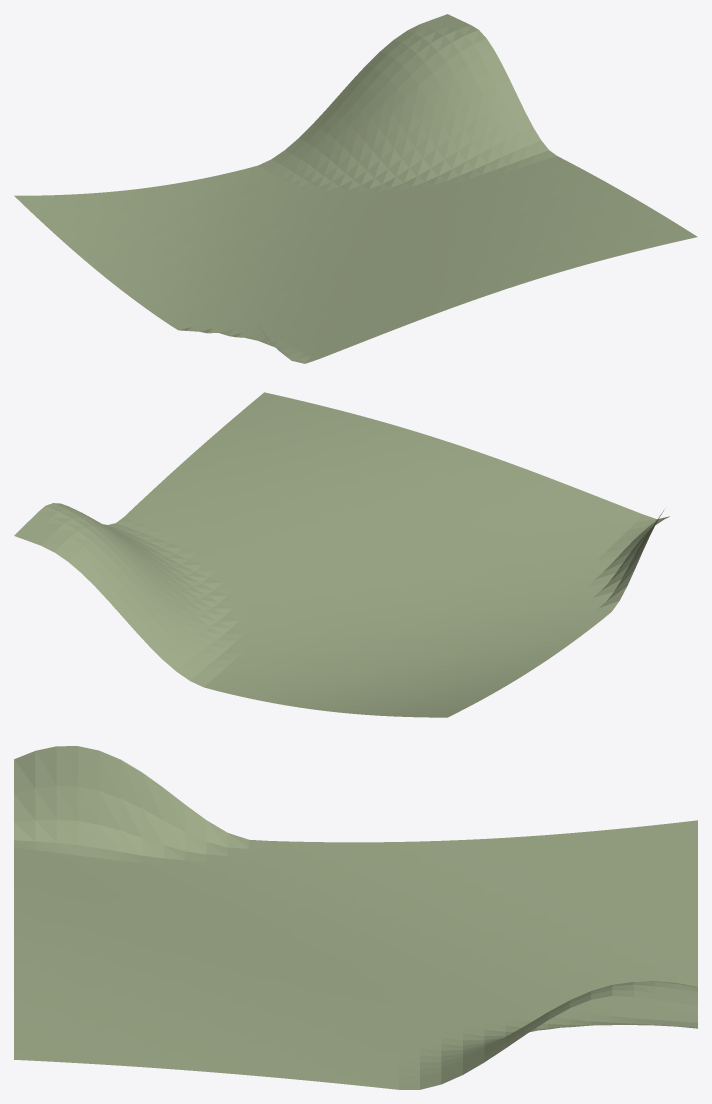
Rendered from expanse-7-25.glb.
The picture shows the model from 3 angles, top to bottom: view 1: azimuth 30°, elevation 25°; view 2: azimuth 150°, elevation 25°; view 3: azimuth 270°, elevation 25°; orthographic projection. The views are drawn at different scales.
Visible parts, largest first — view 1: expanse-7-25; view 2: expanse-7-25; view 3: expanse-7-25.
Boxes of the visible parts, x1,y1,x2,y2 form: expanse-7-25: [14, 14, 697, 363]; expanse-7-25: [14, 392, 669, 717]; expanse-7-25: [14, 746, 697, 1089].
Size of the model in its own units: 256 by 63.57 by 256.
